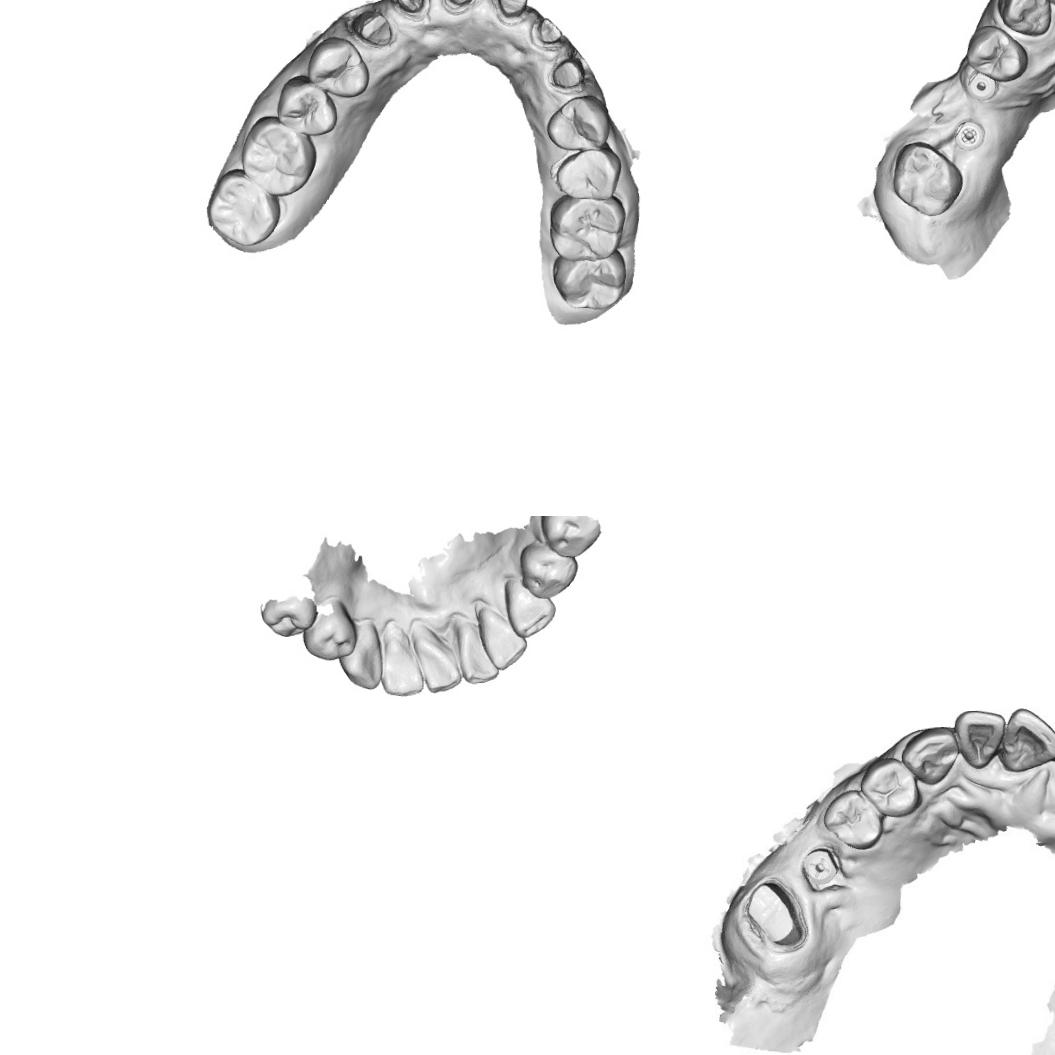canine: (899, 725, 960, 787), (502, 576, 555, 639), (339, 625, 384, 690), (995, 0, 1052, 38)
crown: (741, 877, 809, 954), (348, 2, 398, 49), (545, 55, 587, 94), (529, 16, 563, 48), (491, 0, 531, 26), (392, 0, 431, 21), (439, 0, 478, 16)
implant: (964, 68, 1000, 102)
implant_plus: (948, 108, 996, 156), (798, 846, 844, 890)
incisor: (996, 704, 1055, 774), (952, 705, 1007, 772), (480, 608, 528, 672), (458, 619, 503, 686), (416, 636, 462, 698), (380, 636, 424, 698)
molar: (238, 112, 316, 200), (203, 166, 282, 249), (890, 138, 966, 218), (547, 190, 628, 264), (550, 248, 628, 312)
premolar: (274, 72, 339, 138), (304, 35, 370, 100), (856, 756, 922, 820), (820, 787, 884, 852), (548, 147, 623, 200), (544, 93, 612, 151), (964, 24, 1029, 84), (517, 538, 577, 599), (301, 609, 359, 662), (256, 594, 318, 640), (538, 516, 597, 557)
